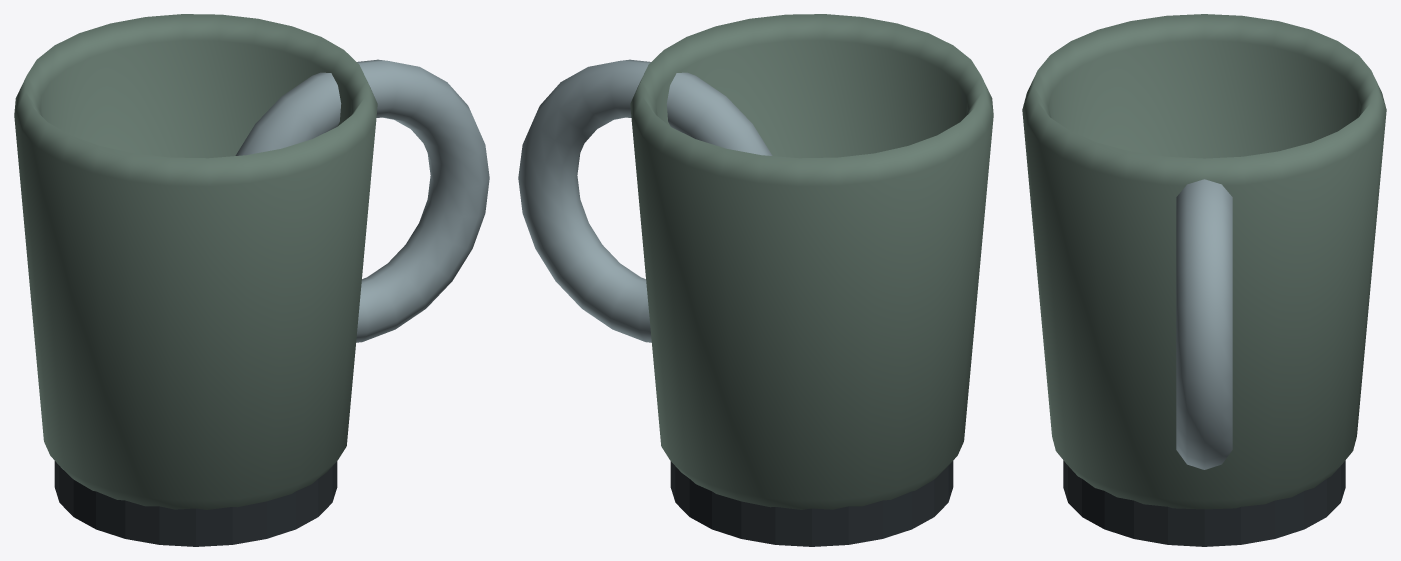
File: KlipsliKupa.glb
The picture shows the model from 3 angles, left to right: view 1: azimuth 30°, elevation 25°; view 2: azimuth 150°, elevation 25°; view 3: azimuth 270°, elevation 25°; orthographic projection.
Parts seen in each view (by area): view 1: Kupa_Govdesi, Kupa_Sapi, Kupa_Miknatis; view 2: Kupa_Govdesi, Kupa_Sapi, Kupa_Miknatis; view 3: Kupa_Govdesi, Kupa_Sapi, Kupa_Miknatis.
Part boxes in pixels (bbox=[...]): Kupa_Govdesi: bbox=[14, 14, 377, 509]; Kupa_Sapi: bbox=[235, 59, 489, 342]; Kupa_Miknatis: bbox=[54, 461, 337, 546]; Kupa_Govdesi: bbox=[630, 14, 993, 509]; Kupa_Sapi: bbox=[518, 59, 772, 342]; Kupa_Miknatis: bbox=[670, 461, 953, 546]; Kupa_Govdesi: bbox=[1022, 14, 1386, 509]; Kupa_Sapi: bbox=[1176, 179, 1232, 469]; Kupa_Miknatis: bbox=[1063, 460, 1345, 546].
Size of the model in its own units: 0.139 by 0.119 by 0.098.
